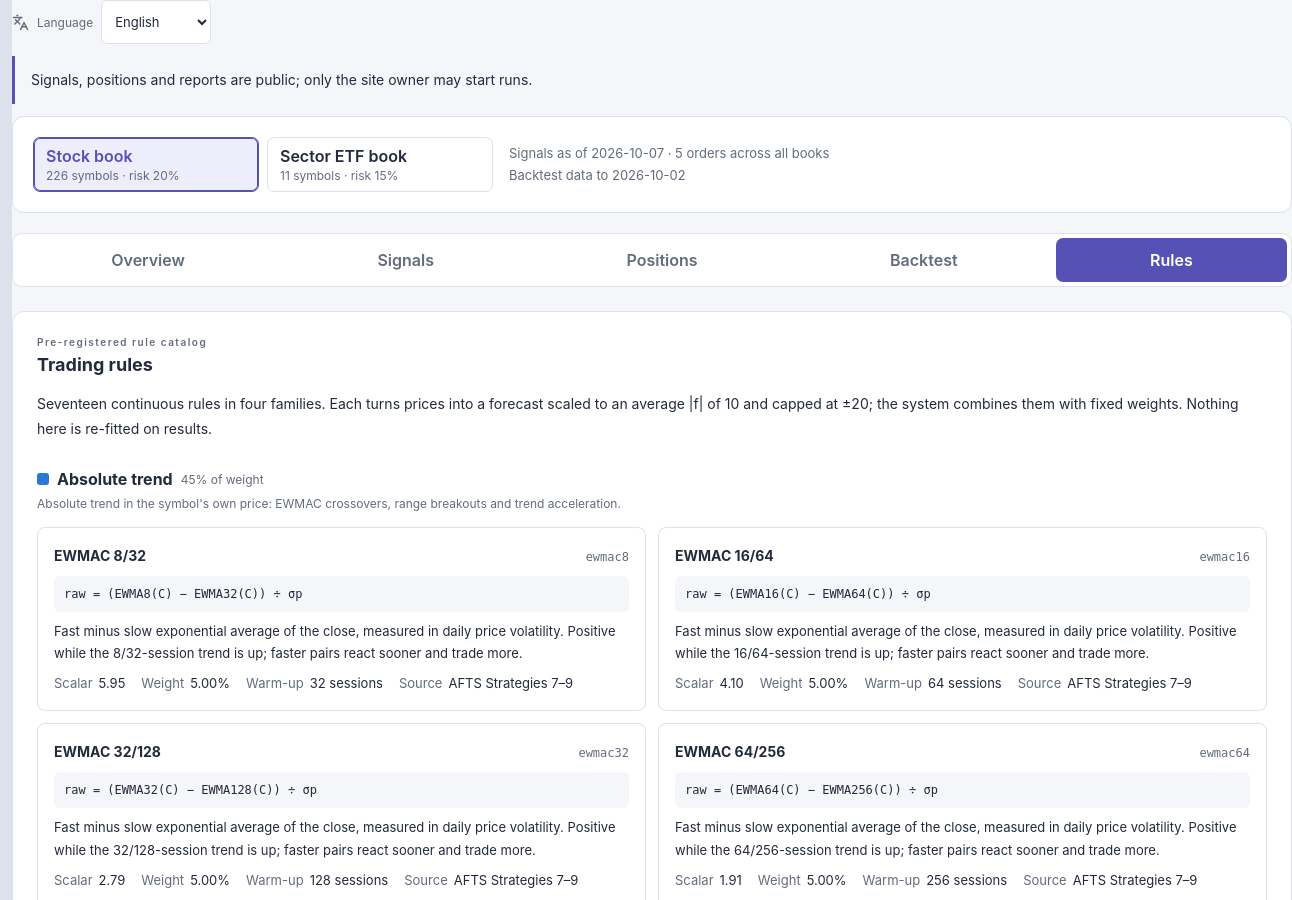
Test case: explains every rule and the framework with the book source
This screenshot has width=1292, height=900.
Expected: the heading "Trading rules" is shown, [37,354,153,375]
Expected: the heading "EWMAC 16/64" is shown, [675,544,774,568]
Select "简体中文" in the dropdown labelled "Language": (156, 22) [101,0,211,44]
(page scrolled)
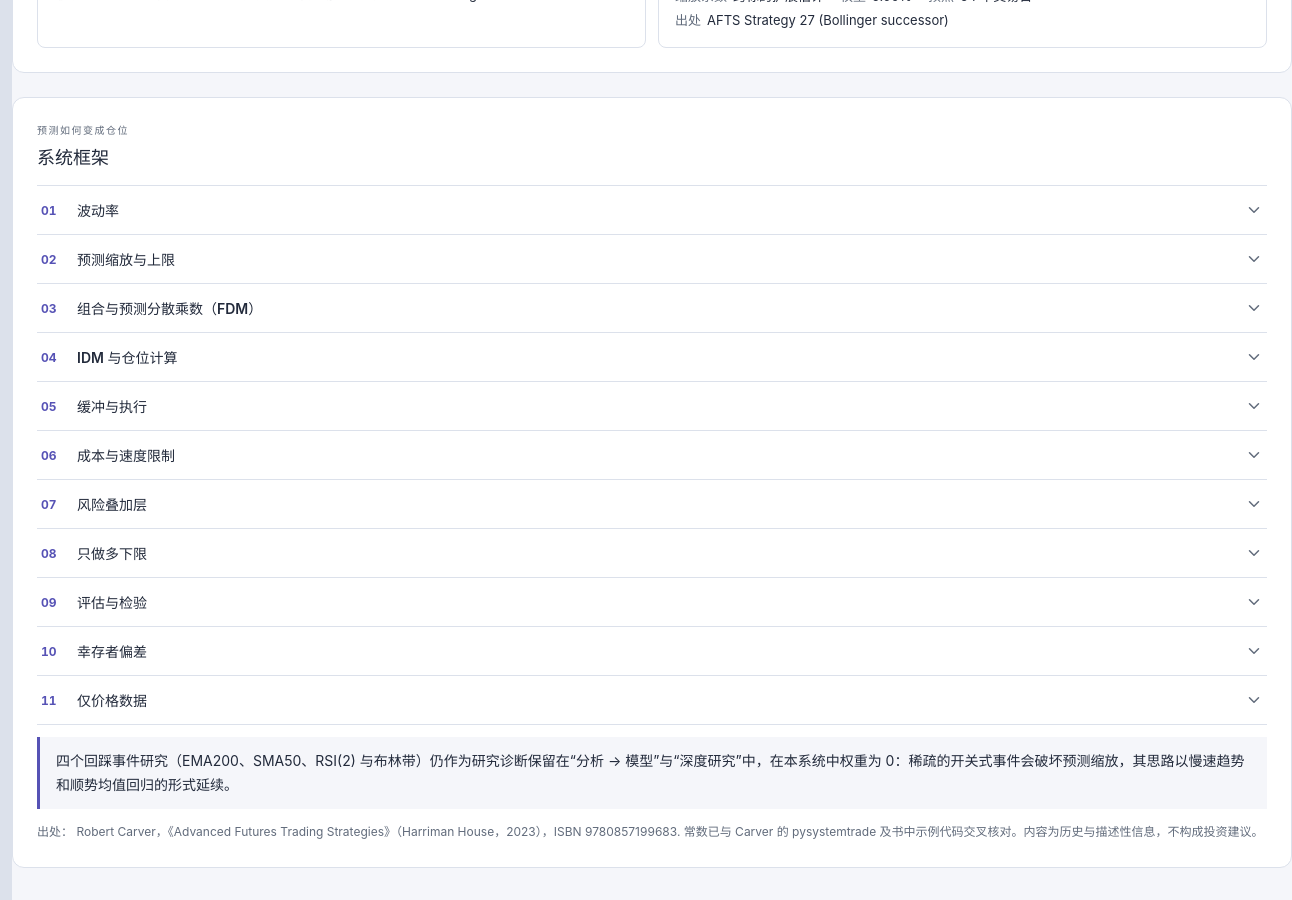
Expected: the text "幸存者偏差" is shown, [77,643,147,660]
